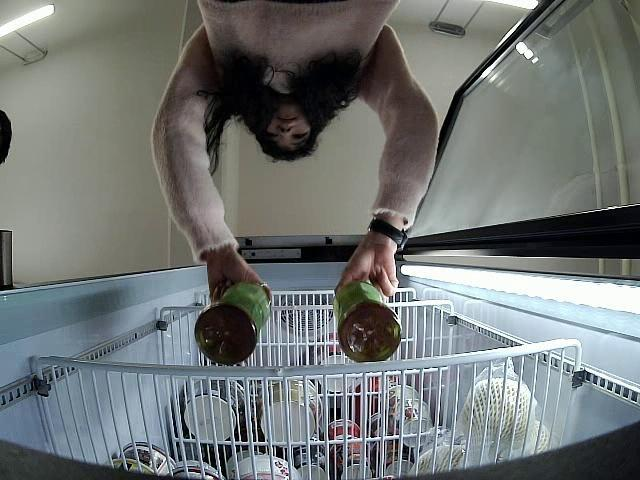19_17cha: (194, 282, 272, 365), (333, 278, 403, 363)
